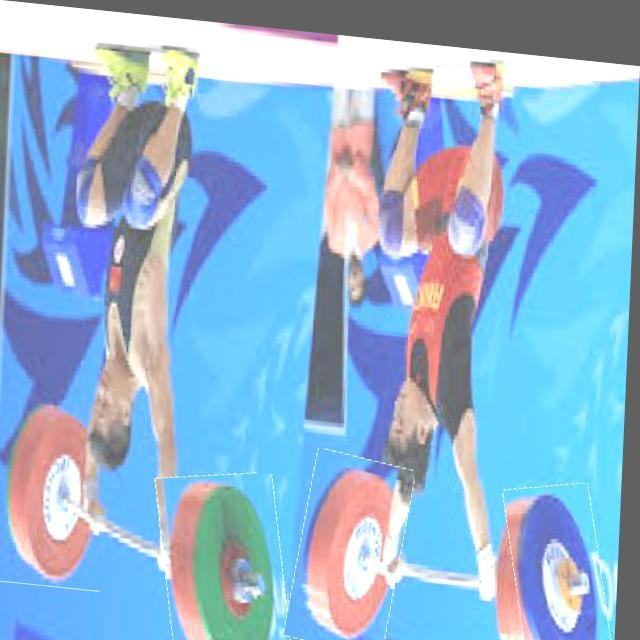barbell: (161, 464, 298, 640), (296, 442, 415, 640), (6, 395, 113, 590), (511, 467, 622, 640)
